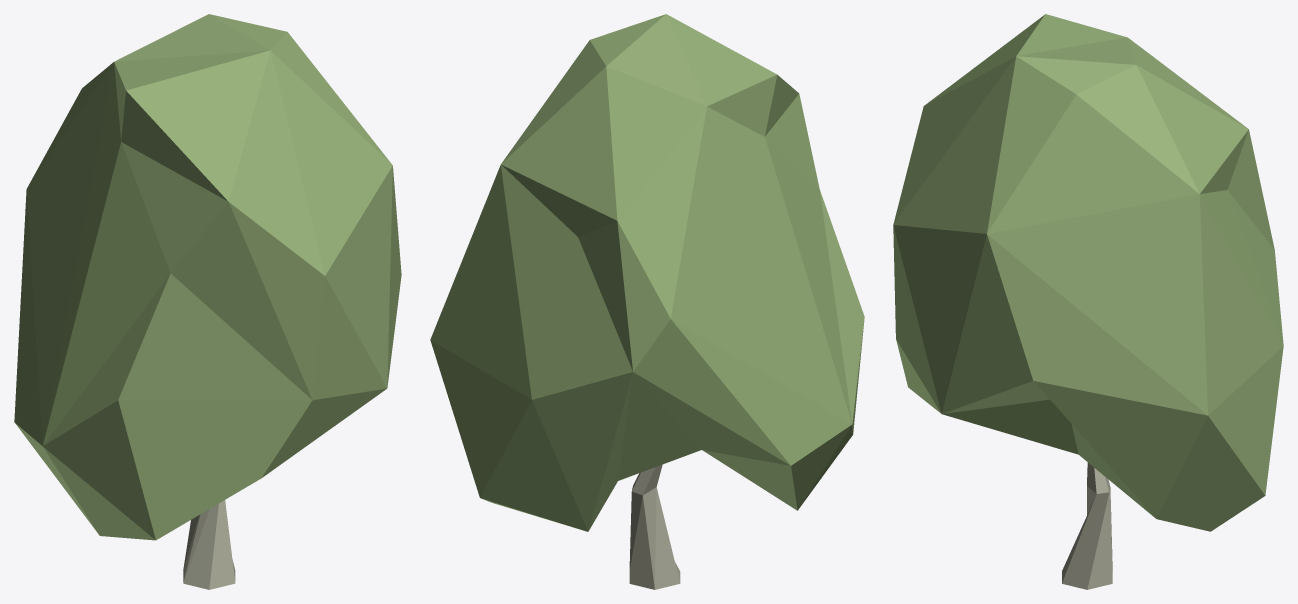
Rendered from FagusSylvatica.glb.
3 views of the same model, side by side, from view 1: azimuth 30°, elevation 25°; view 2: azimuth 150°, elevation 25°; view 3: azimuth 270°, elevation 25° (orthographic). The views are drawn at different scales.
Parts seen in each view (by area): view 1: Crown, Trunk; view 2: Crown, Trunk; view 3: Crown, Trunk.
Part boxes in pixels (left/top/right/bottom): Crown: left=14, top=14, right=401, bottom=540; Trunk: left=183, top=500, right=235, bottom=589; Crown: left=430, top=14, right=864, bottom=531; Trunk: left=629, top=464, right=680, bottom=589; Crown: left=893, top=14, right=1283, bottom=531; Trunk: left=1062, top=462, right=1112, bottom=589.
Bounding box in the file's own units: 16.27 × 24.03 × 15.95.
